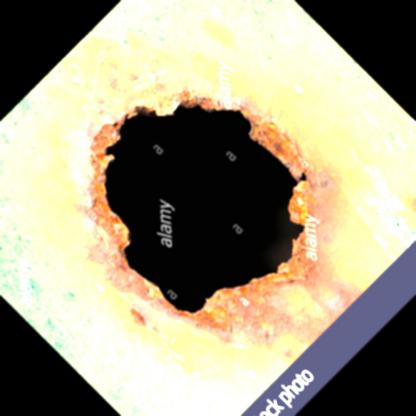burst: (90, 89, 327, 318)
